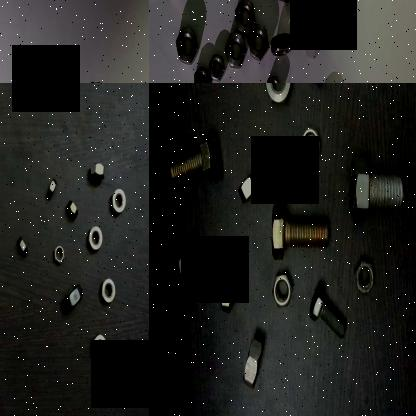Bolts: (170, 113, 223, 206), (254, 202, 333, 264), (344, 154, 406, 226), (304, 279, 352, 341)
NUTS: (242, 330, 268, 396), (233, 162, 263, 214), (172, 26, 204, 69), (351, 254, 379, 302), (297, 124, 324, 163), (174, 244, 200, 284), (268, 272, 294, 310), (61, 280, 85, 320), (224, 32, 248, 70), (218, 272, 236, 322), (233, 0, 257, 36), (247, 26, 271, 62), (260, 83, 293, 109), (268, 31, 298, 57), (108, 186, 128, 216), (208, 48, 225, 83), (87, 223, 105, 256), (100, 274, 118, 306), (318, 7, 336, 37), (305, 19, 322, 48), (92, 332, 108, 361), (14, 234, 30, 262), (190, 62, 210, 83), (66, 196, 80, 224), (90, 158, 106, 182), (52, 244, 66, 270), (45, 176, 60, 200), (307, 0, 327, 10), (264, 74, 283, 83)
